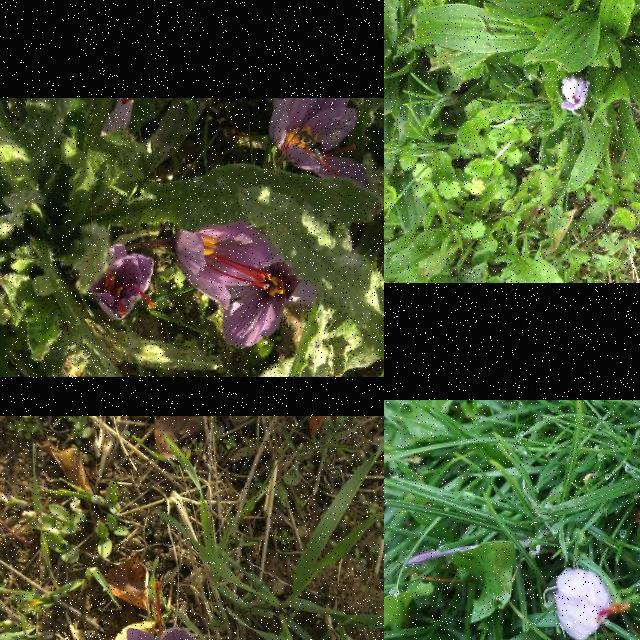flower: (269, 98, 361, 186), (552, 568, 632, 640), (124, 581, 216, 640), (84, 243, 154, 320), (561, 77, 591, 111)
overlap: (176, 228, 300, 348)
